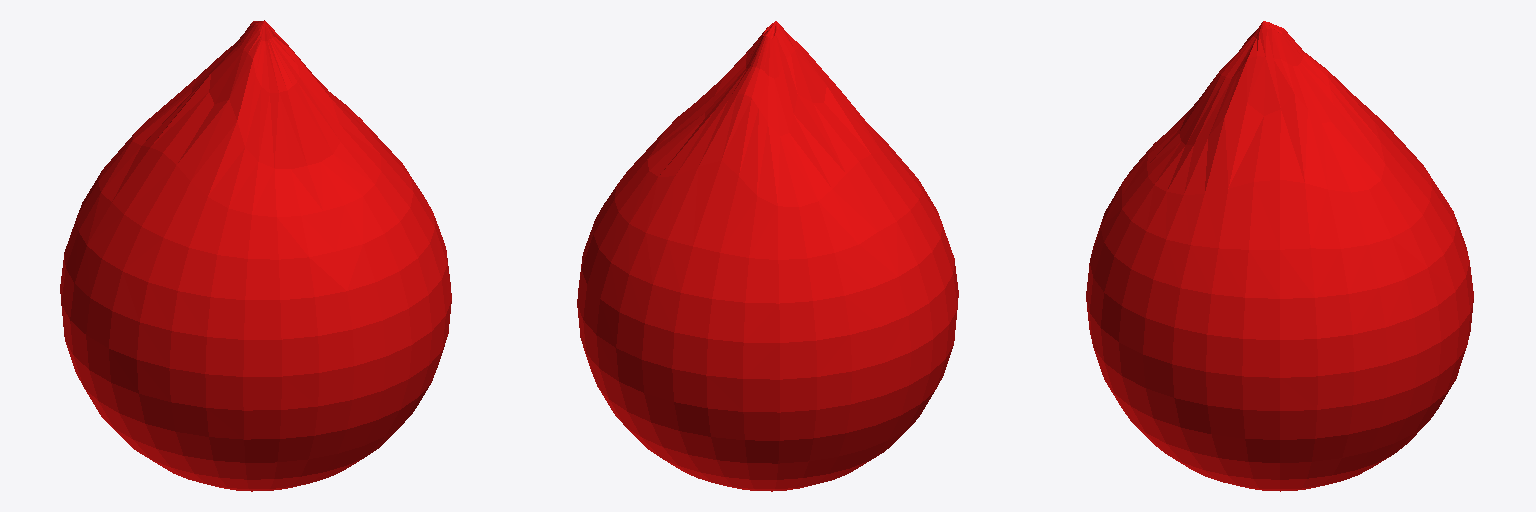
The robot description file, URDF, robot "strawberry.urdf":
<robot name="strawberry.urdf">
<link name ="base">
    <visual>
      <origin xyz='0 0 0' rpy='0 0 0'/>
      <geometry>
        <mesh filename="strawberry.dae"  scale="0.01 0.01 0.01" />
      </geometry>
      <material name="red">
    	<color rgba="0.9 0.1 0.1 1."/>
      </material>
    </visual>
    <inertial>
      <mass value="0.002"/>
      <inertia ixx="0.001" ixy="0.0" ixz="0.0" iyy="0.001" iyz="0.0" izz="0.001"/>
    </inertial>
    <collision>
      <origin rpy="0 0 0" xyz="0 0 0"/>
      <geometry>
	 	<mesh filename="strawberry_vhacd.obj" scale="0.01 0.01 0.01"/>
      </geometry>
    </collision>
  </link>
</robot>

--- What the picture shows (computed from the rendered views, not written in the file) ---
The picture shows the robot from 3 angles, left to right: view 1: azimuth 30°, elevation 25°; view 2: azimuth 150°, elevation 25°; view 3: azimuth 270°, elevation 25°; orthographic projection.
Robot: strawberry.urdf — 1 links, 0 joints (none); root link base; default pose: every joint at zero.
Visible links, largest first — view 1: base; view 2: base; view 3: base.
Boxes of the visible links, <box> form: base: <box>60,20,451,491</box>; base: <box>577,21,958,491</box>; base: <box>1086,21,1473,491</box>.
Bounding box of the posed robot: 0.0199 × 0.02 × 0.0257 m (x, y, z).
Meshes: 1 distinct files referenced, 1 mesh visuals loaded (1 Collada DAE).